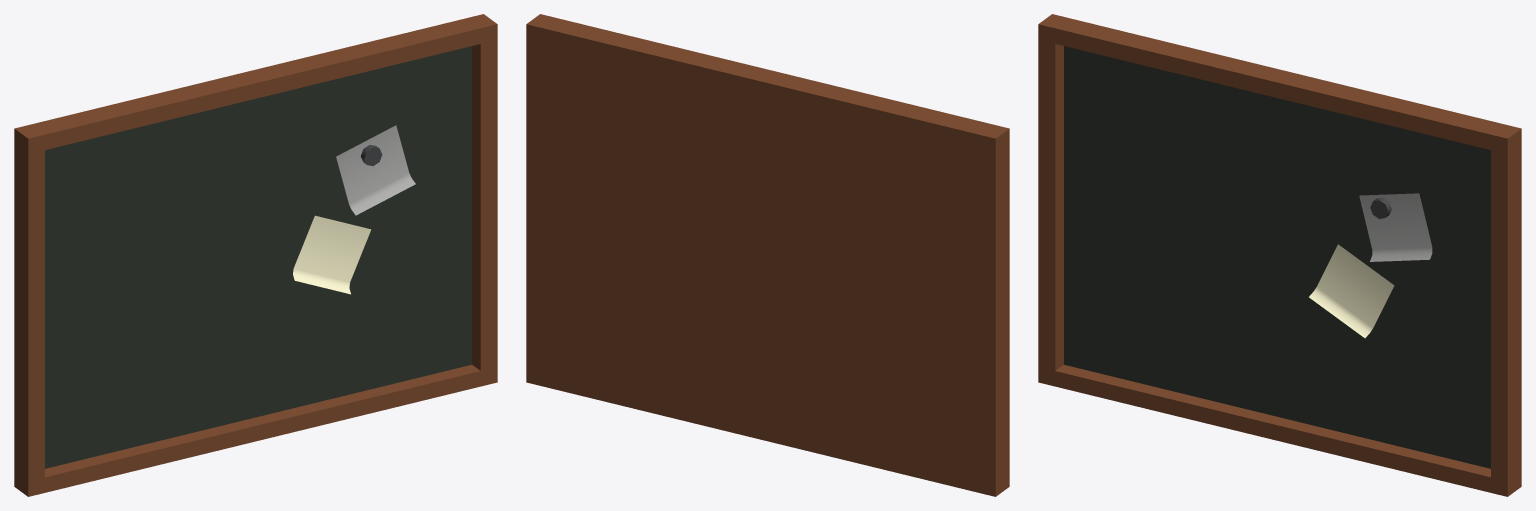
File: 04_furniture_board.FBX
3 renders of one model, left to right at view 1: azimuth 30°, elevation 25°; view 2: azimuth 150°, elevation 25°; view 3: azimuth 330°, elevation 25°, orthographic.
Parts seen in each view (by area): view 1: furniture_board, prop_post it(yellow), prop_post it(gray); view 2: furniture_board; view 3: furniture_board, prop_post it(yellow), prop_post it(gray).
Boxes of the visible parts, x1=… form: furniture_board: x1=14, y1=14, x2=497, y2=496; prop_post it(yellow): x1=293, y1=215, x2=371, y2=294; prop_post it(gray): x1=336, y1=125, x2=415, y2=215; furniture_board: x1=526, y1=14, x2=1009, y2=496; furniture_board: x1=1038, y1=14, x2=1521, y2=496; prop_post it(yellow): x1=1309, y1=244, x2=1394, y2=338; prop_post it(gray): x1=1359, y1=193, x2=1432, y2=261.
Bounding box in the file's own units: 93.42 × 68.14 × 5.52.
